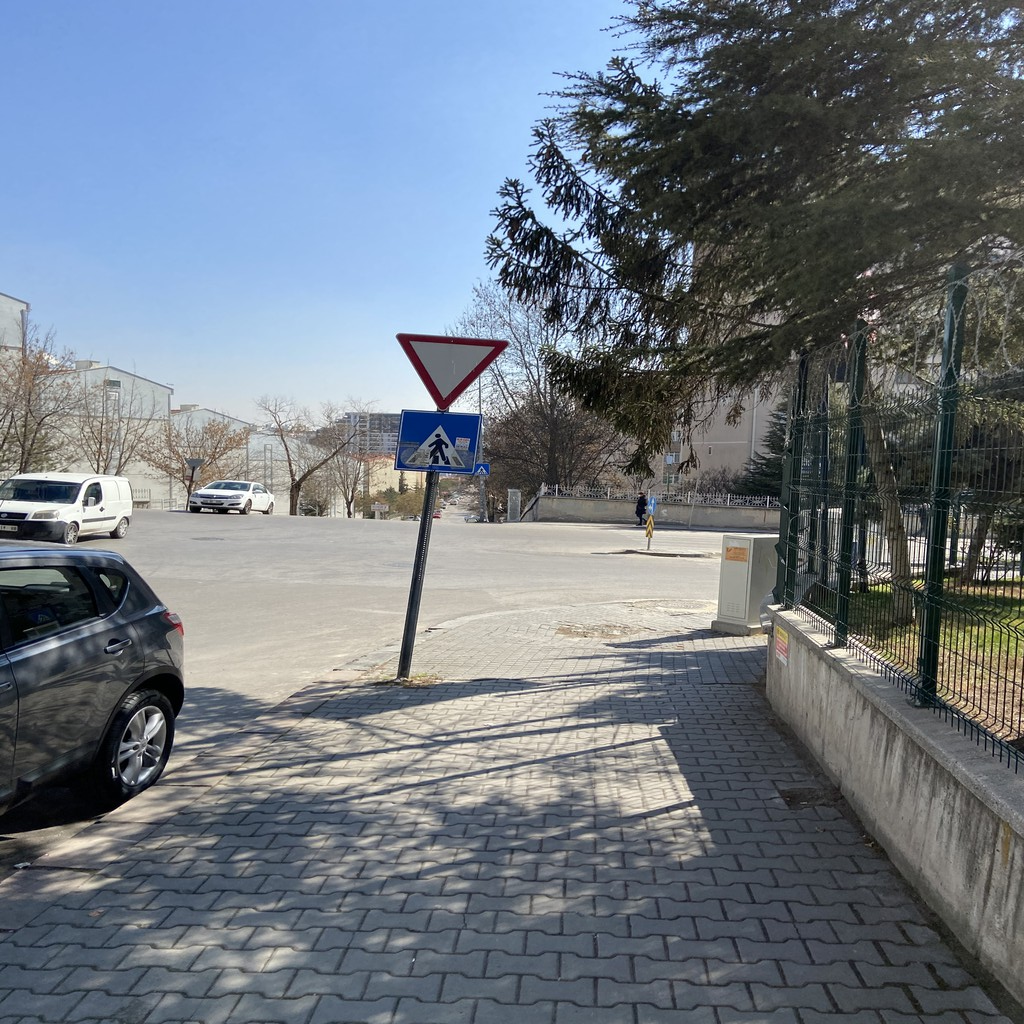Yaya Gecidi: (405, 411, 486, 476)
Yol Ver: (400, 332, 499, 406)
